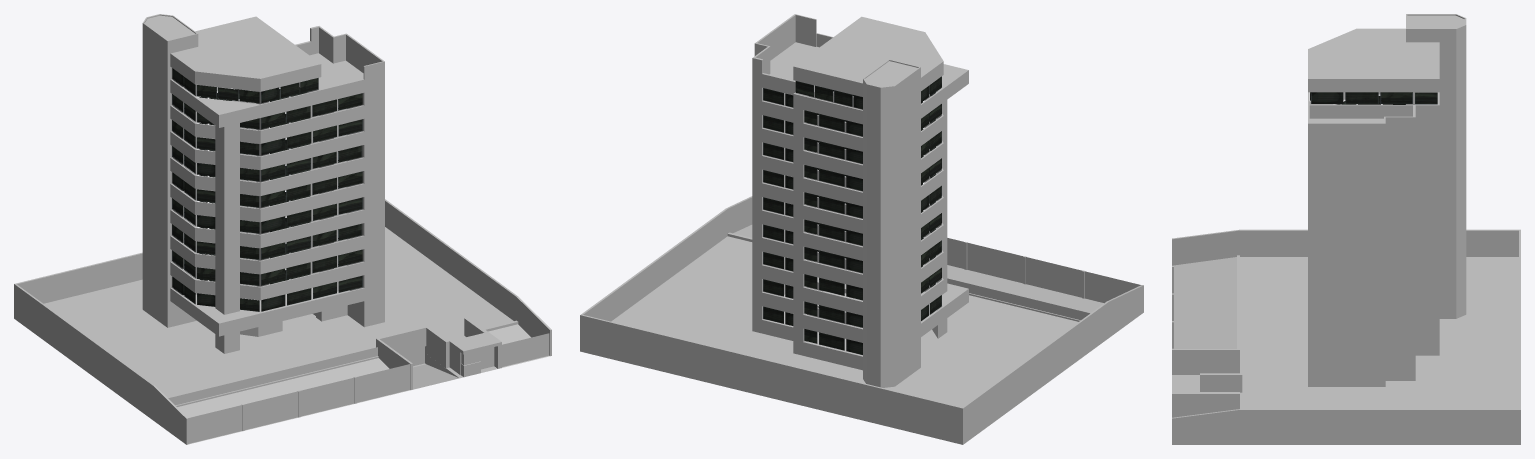
3 renders of one model, left to right at view 1: azimuth 30°, elevation 25°; view 2: azimuth 150°, elevation 25°; view 3: azimuth 270°, elevation 25°, orthographic. The views are drawn at different scales.
Visible parts, largest first — view 1: BB-069; view 2: BB-069; view 3: BB-069.
Boxes of the visible parts, x1,y1,x2,y2 form: BB-069: (14, 14, 551, 444); BB-069: (580, 14, 1143, 444); BB-069: (1172, 14, 1520, 444).
Size of what is drawn, in the model's own units: 44 by 35.2 by 36.
